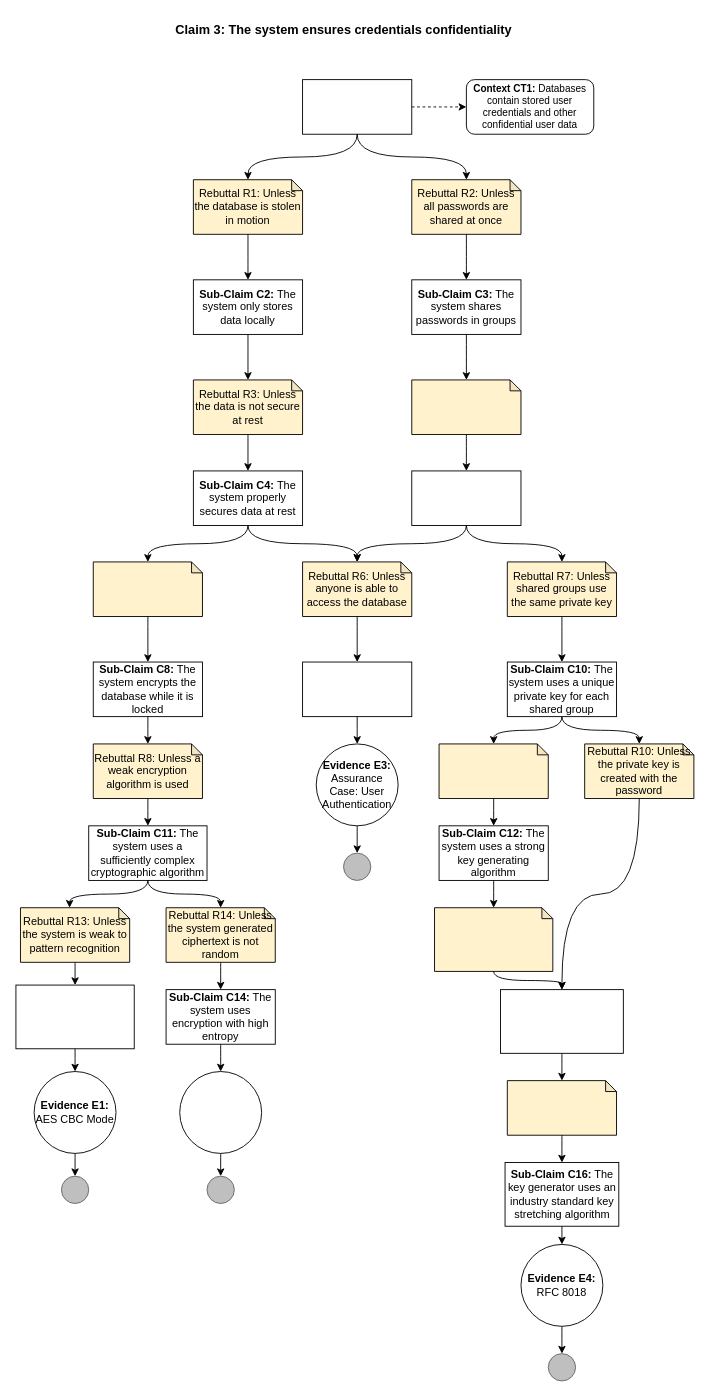
This 710x1397 diagram has some shape labels left out. The shapes that lost their labels are listed below. From the top down, each one's centre as x and y in pixels, then its label:
At (x=357, y=106): "Top-Claim C1: The system ensures credentials confidentiality".
At (x=466, y=407): "Rebuttal R4: Unless the groups can be accessed with the same password".
At (x=466, y=498): "Sub-Claim C5: The system assigns a unique password to each shared group".
At (x=147, y=589): "Rebuttal R5: Unless the data is not encrypted".
At (x=357, y=689): "Sub-Claim C9: The system ensures proper user authentication".
At (x=493, y=771): "Rebuttal R9: Unless the system uses weak cryptographic keys".
At (x=493, y=939): "Rebuttal R15: Unless the key generating algorithm is of insufficient length".
At (x=74, y=1016): "Sub-Claim C13: The system implements non-pattern based encryption".
At (x=561, y=1021): "Sub-Claim C15: The private keys are generated using a key stretching algorithm".
At (x=220, y=1112): "Evidence E2: Hardware Randomness Library".
At (x=561, y=1107): "Rebuttal R16: Unless the key stretching algorithm is weak".
